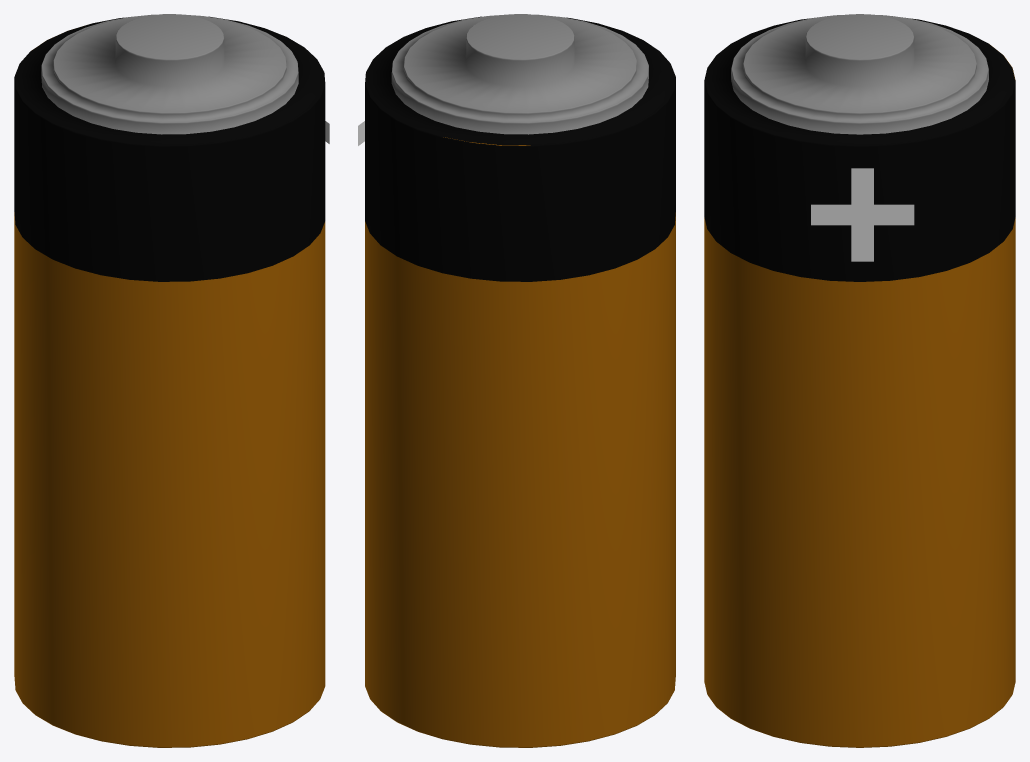
File: Battery-Bunch.fbx
3 renders of one model, left to right at view 1: azimuth 30°, elevation 25°; view 2: azimuth 150°, elevation 25°; view 3: azimuth 270°, elevation 25°, orthographic.
Parts seen in each view (by area): view 1: Cylinder; view 2: Cylinder; view 3: Cylinder.
Part boxes in pixels (x1,y1,x2,y2): Cylinder: (14,14,329,747); Cylinder: (358,14,675,747); Cylinder: (704,14,1015,747).
Bounding box in the file's own units: 200 × 463 × 200.
